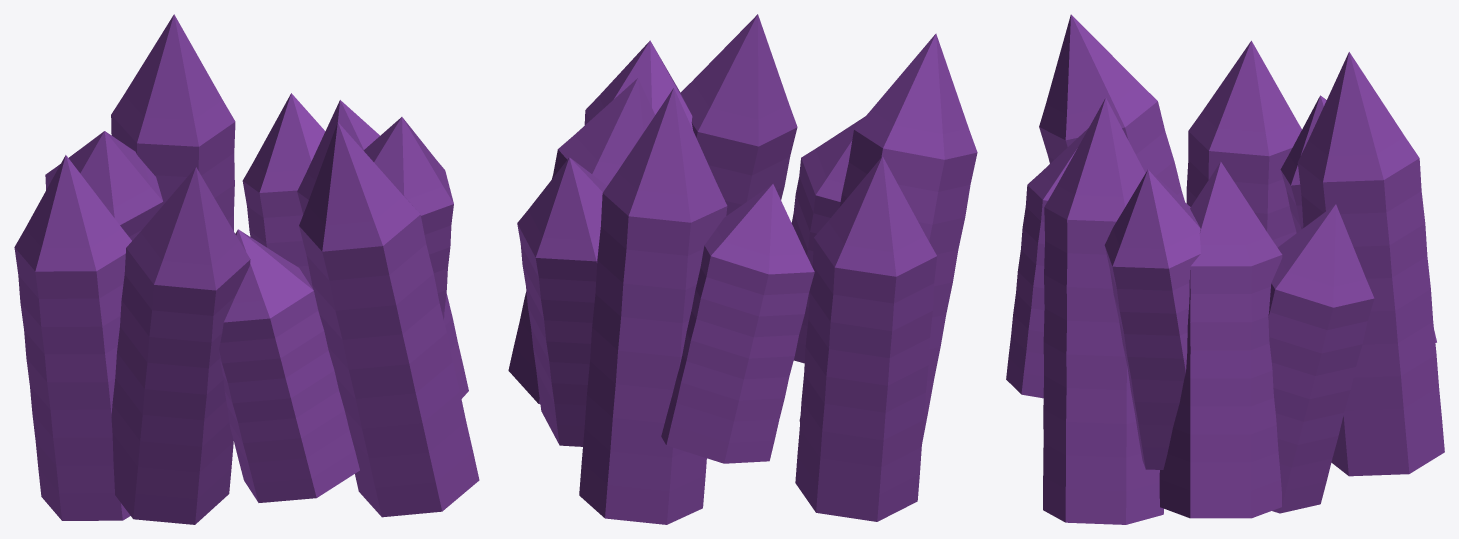
Rendered from amethyst.glb.
3 views of the same model, side by side, from view 1: azimuth 30°, elevation 25°; view 2: azimuth 150°, elevation 25°; view 3: azimuth 270°, elevation 25° (orthographic). The views are drawn at different scales.
Visible parts, largest first — view 1: amethyst; view 2: amethyst; view 3: amethyst.
Boxes of the visible parts, x1,y1,x2,y2 form: amethyst: (14, 14, 479, 524); amethyst: (508, 14, 977, 524); amethyst: (1006, 14, 1444, 524).
Size of the model in its own units: 2.34 by 2.27 by 2.18.
